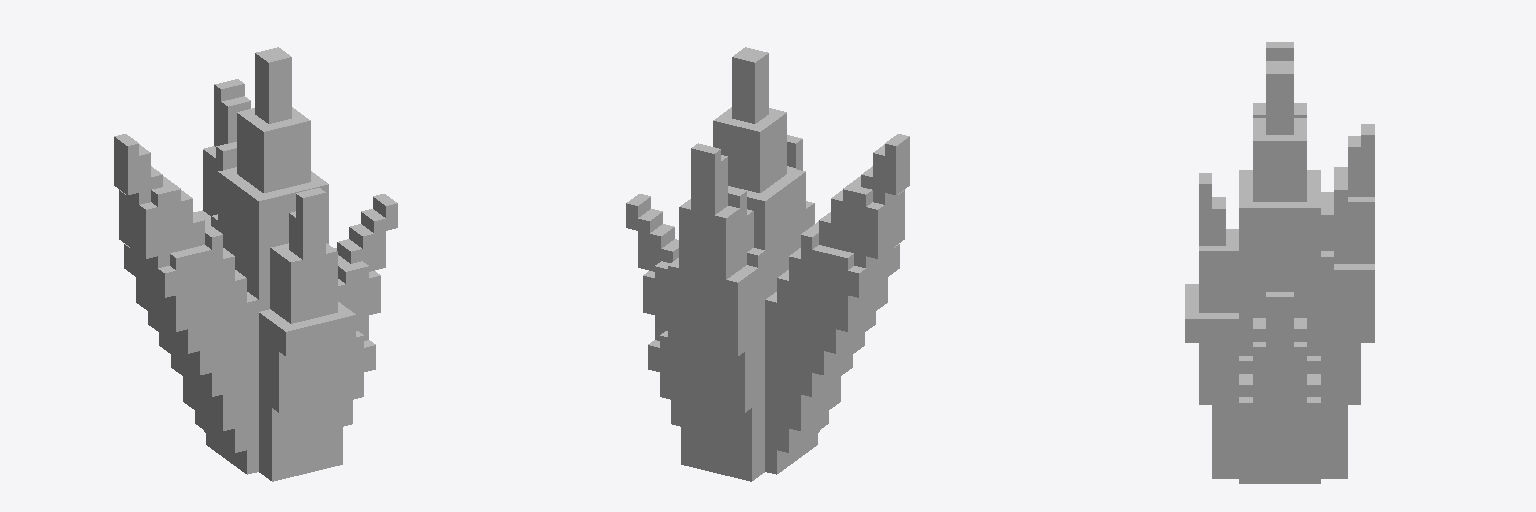
File: green crystal.obj
The picture shows the model from 3 angles: view 1: azimuth 30°, elevation 25°; view 2: azimuth 150°, elevation 25°; view 3: azimuth 270°, elevation 25°; orthographic projection.
Parts seen in each view (by area): view 1: object 1; view 2: object 1; view 3: object 1.
Boxes of the visible parts, <box> form: object 1: <box>114,47,397,481</box>; object 1: <box>626,47,909,481</box>; object 1: <box>1185,42,1374,483</box>.
Size of the model in its own units: 2.3 by 3.2 by 1.4.